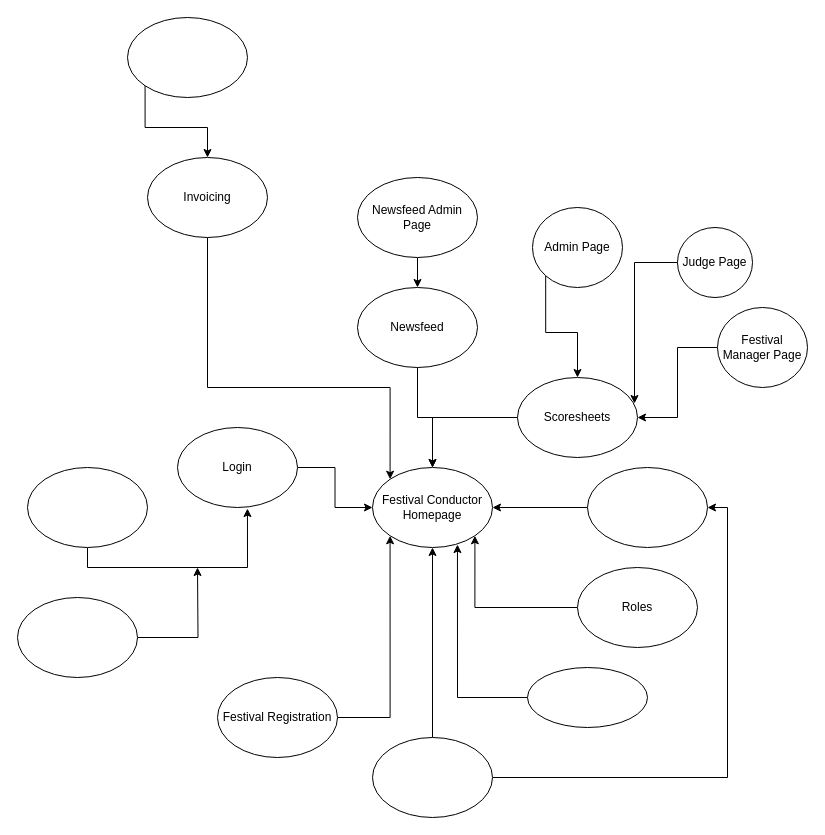
This 825x835 diagram has some shape labels left out. The centre of each missing label's shape, as x and y in pixels:
"Contacts" goes at (x=587, y=697).
"Emailer" goes at (x=187, y=57).
"Festival Dashboard" goes at (x=647, y=507).
"Forgot Password/ Username" goes at (x=77, y=637).
"Scheduler" goes at (x=432, y=777).
"User Registration" goes at (x=87, y=507).
